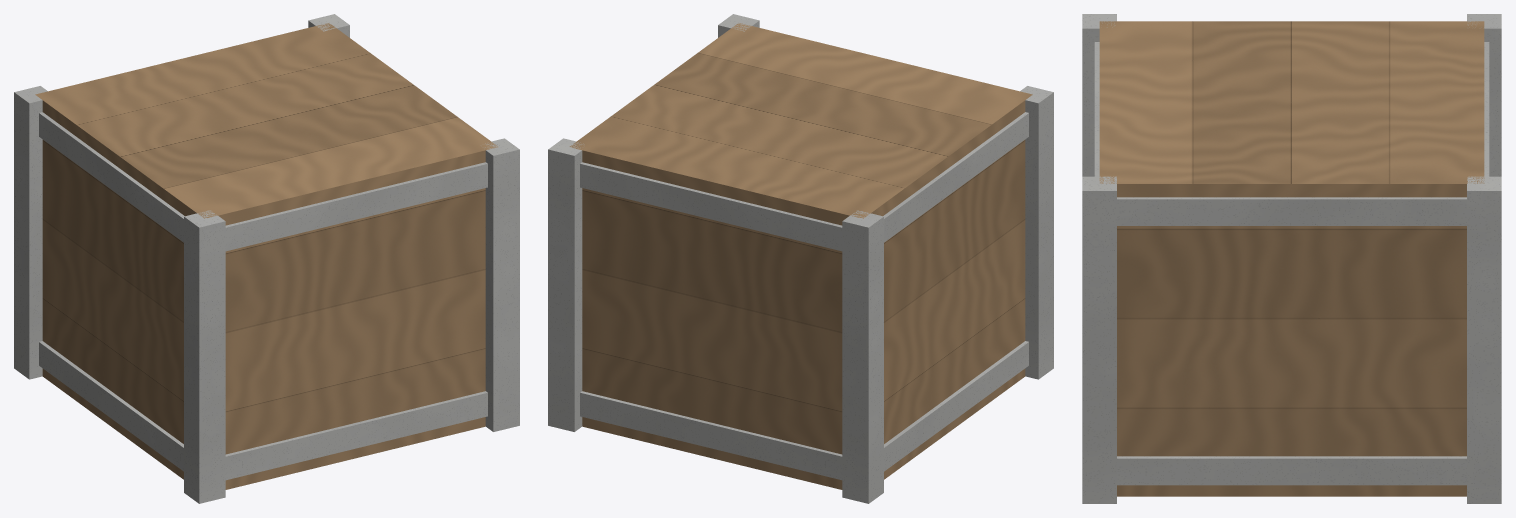
The model's file is crate.gltf.
The picture shows the model from 3 angles, left to right: view 1: azimuth 30°, elevation 25°; view 2: azimuth 150°, elevation 25°; view 3: azimuth 270°, elevation 25°; orthographic projection. The views are drawn at different scales.
Visible parts, largest first — view 1: jx_crate; view 2: jx_crate; view 3: jx_crate.
Part boxes in pixels (x1,y1,x2,y2): jx_crate: (14,14,519,503); jx_crate: (548,14,1053,503); jx_crate: (1082,14,1501,503).
Size of the model in its own units: 0.85 by 0.7 by 0.85.
Materials: 2 (2 with a texture image).
